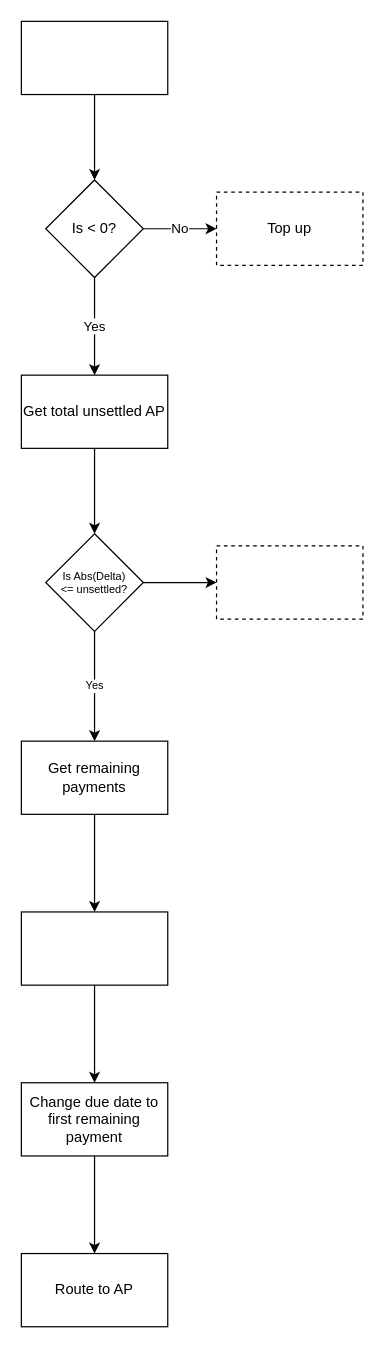
Image size: 384x1348. Some labels were removed from this diagram. The box of each missing label's shape, as (x1, y1, x2, y2) in pixels:
As is?: (215, 545, 363, 619)
Calculate Delta: (20, 20, 168, 95)
Change schedule to only remainig: (20, 911, 168, 985)
